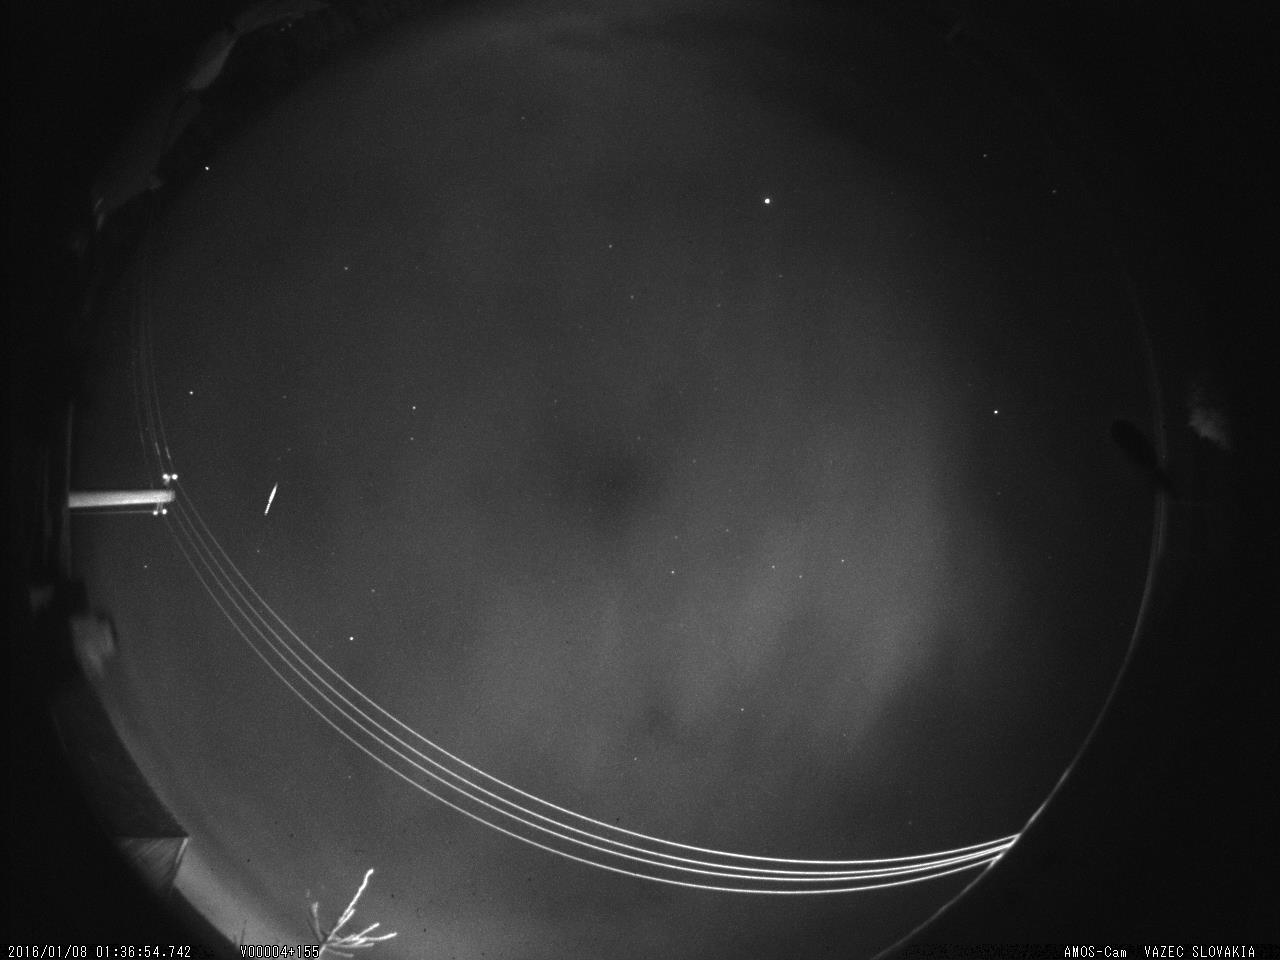meteor: (258, 475, 292, 524)
